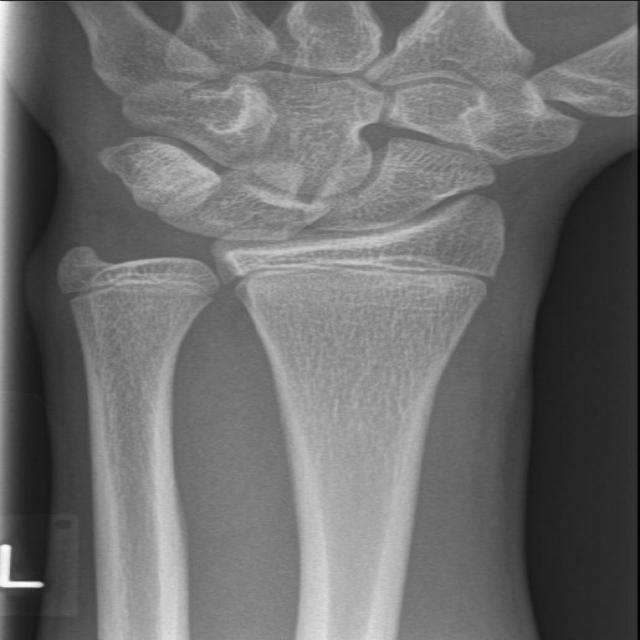fracture: (210, 249, 517, 299), (55, 265, 231, 317)
